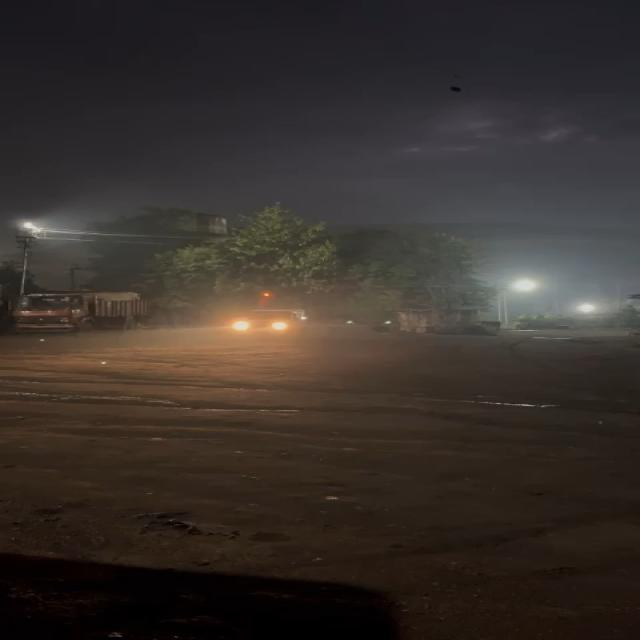light_vehicle: (227, 307, 313, 336)
